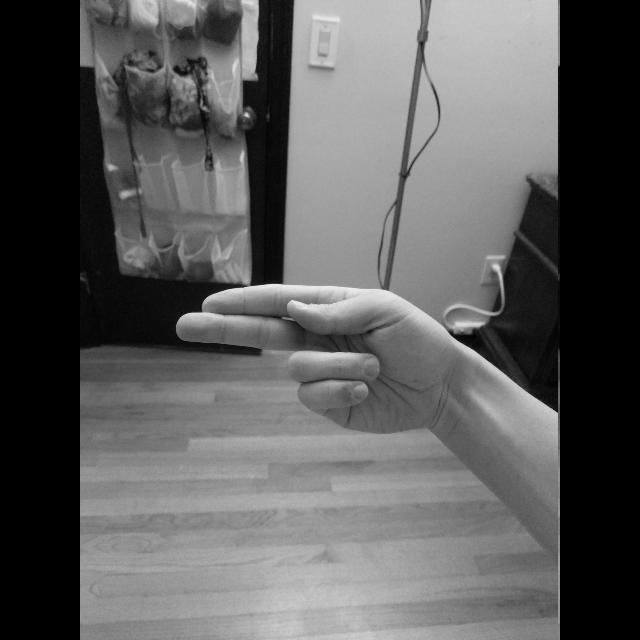H: (166, 277, 470, 438)
